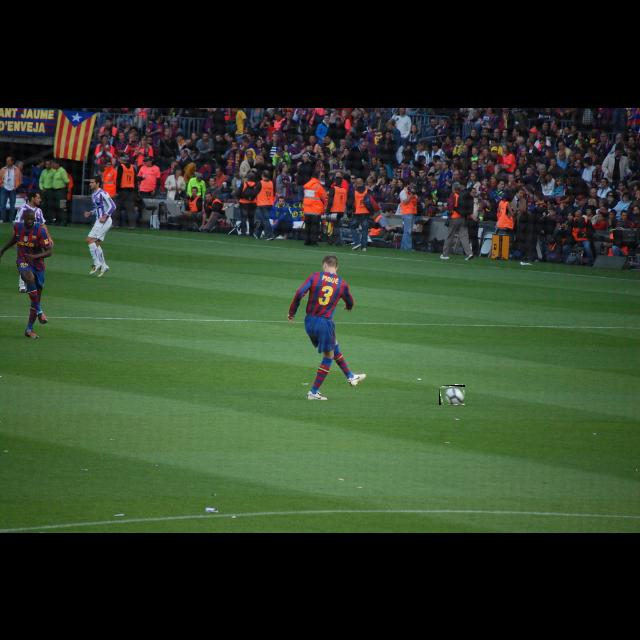Football: (439, 385, 465, 405)
